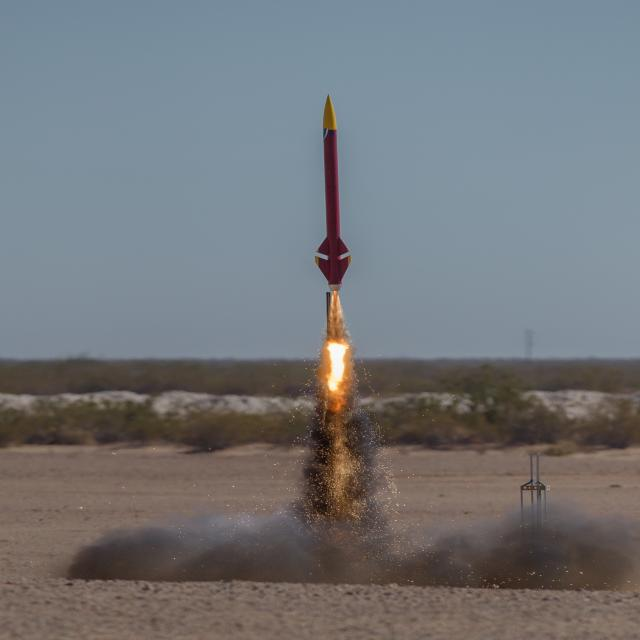Rocket: (314, 95, 356, 297)
